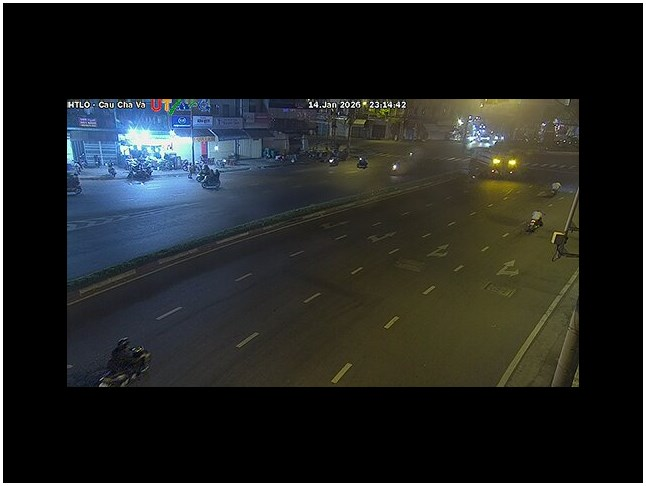car: (68, 166, 83, 196)
